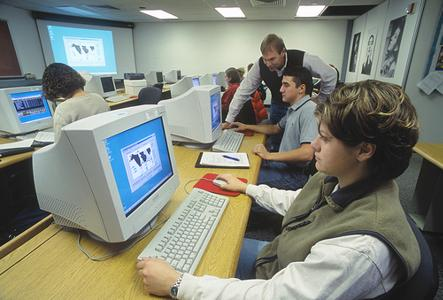person: (135, 78, 424, 300)
